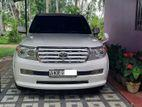car: (13, 13, 110, 91)
